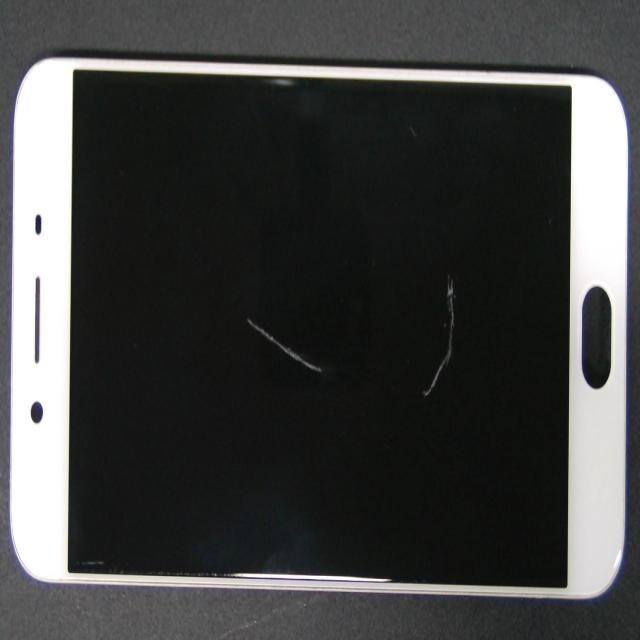scratch: (243, 67, 640, 474), (216, 197, 460, 507)
